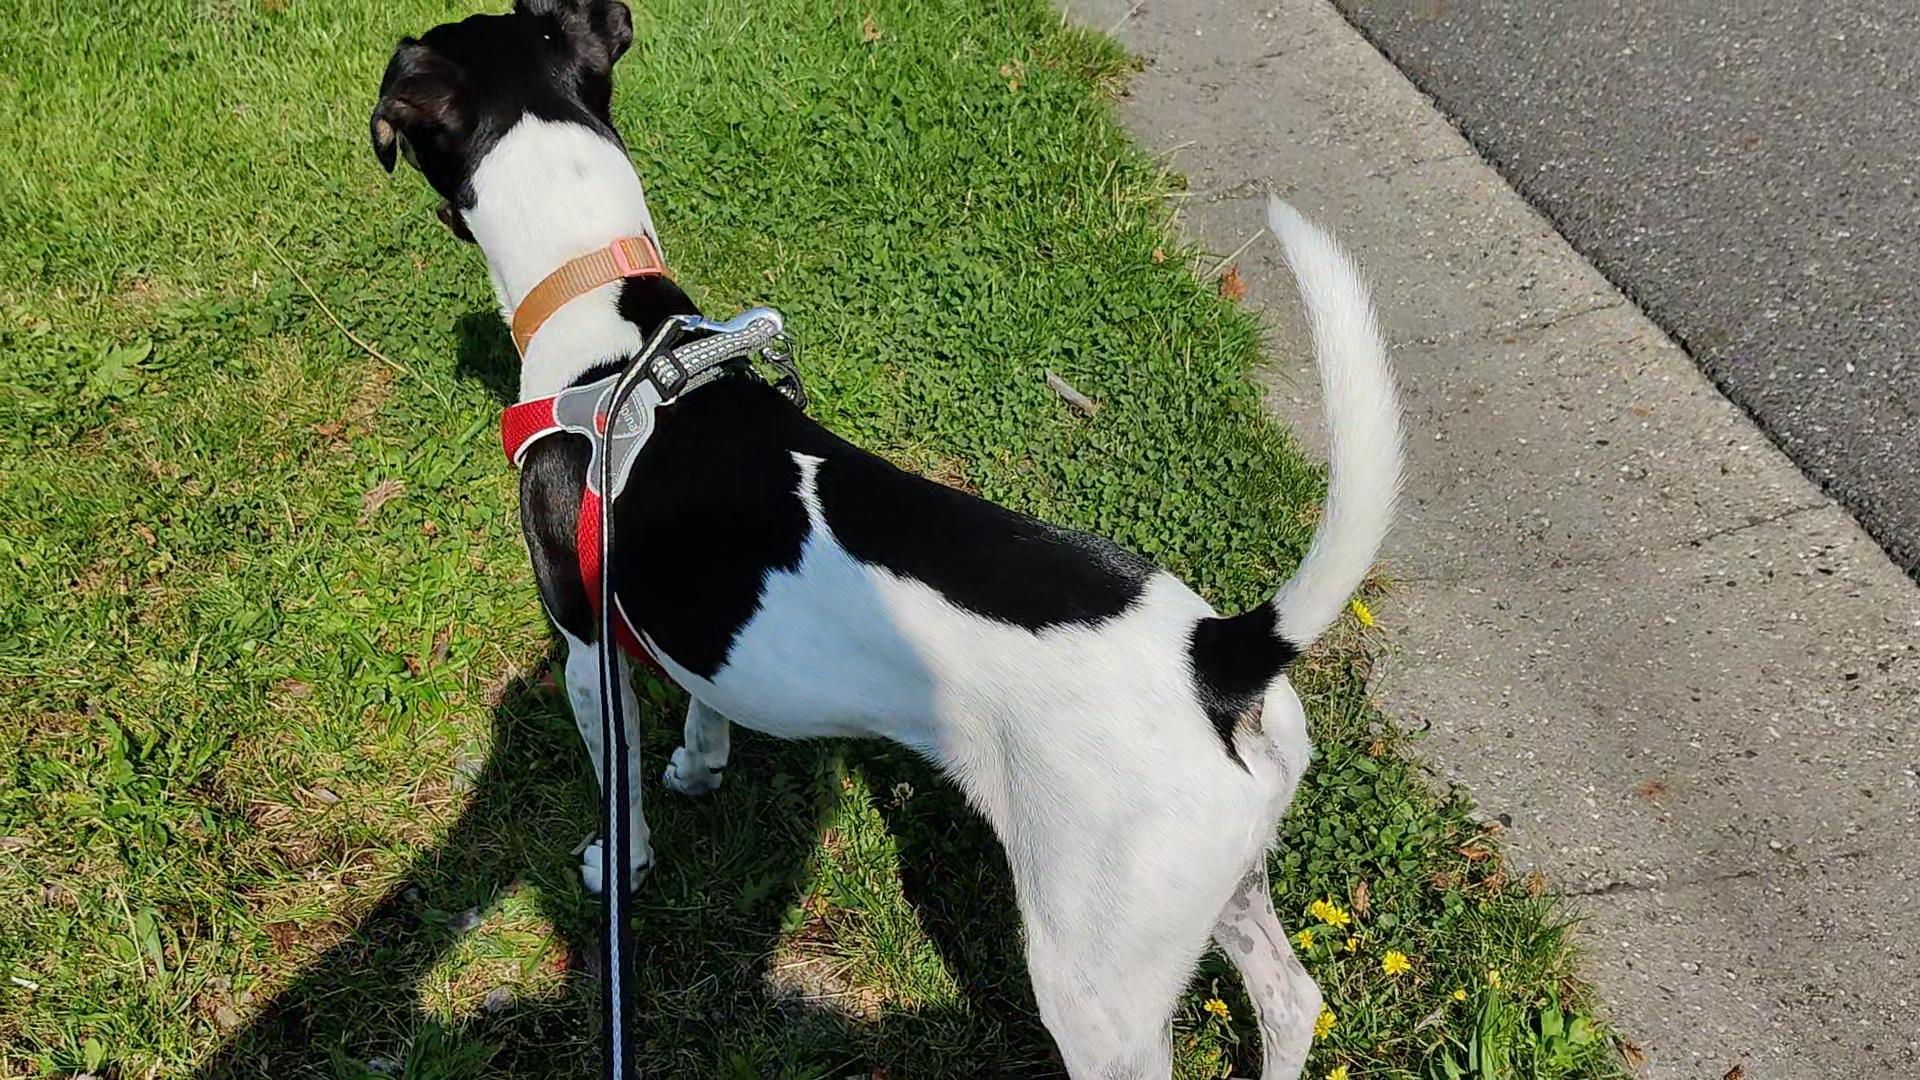Dog: (364, 0, 1427, 1079)
